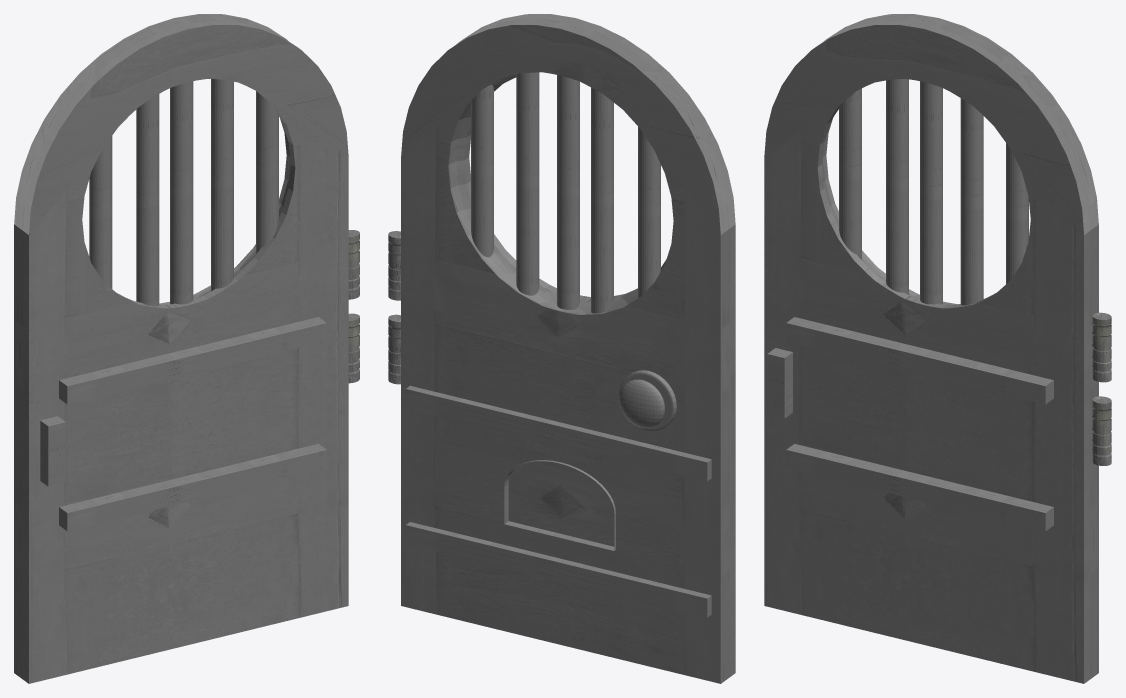
Rendered from door.glb.
3 renders of one model, left to right at view 1: azimuth 30°, elevation 25°; view 2: azimuth 150°, elevation 25°; view 3: azimuth 330°, elevation 25°, orthographic.
Visible parts, largest first — view 1: Cube_0; view 2: Cube_0; view 3: Cube_0.
Boxes of the visible parts, bbox=[...] form: Cube_0: bbox=[14, 14, 359, 683]; Cube_0: bbox=[388, 14, 735, 683]; Cube_0: bbox=[764, 14, 1111, 683].
Bounding box in the file's own units: 1.15 × 2 × 0.2028.
3 materials, 3 textured.
